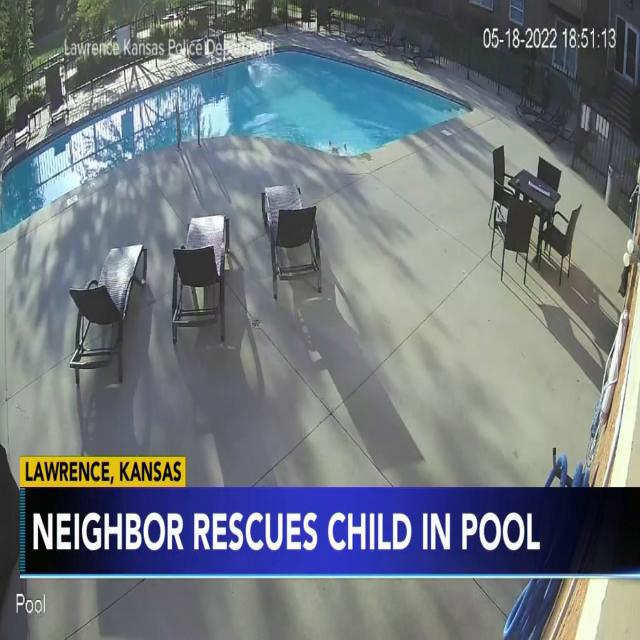child: (324, 135, 354, 160)
